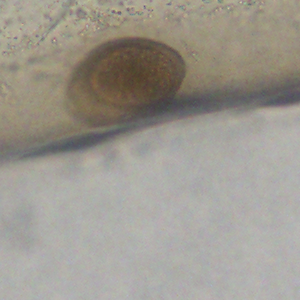Fasciola_hepatica_egg: (61, 36, 186, 128)
